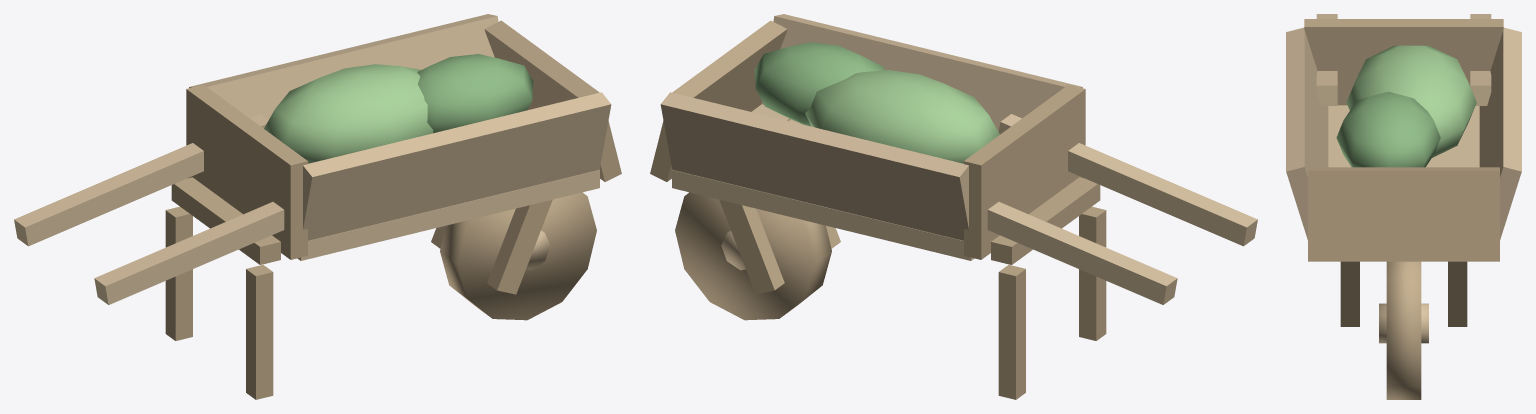
File: wheelbarrow.fbx
The picture shows the model from 3 angles, left to right: view 1: azimuth 30°, elevation 25°; view 2: azimuth 150°, elevation 25°; view 3: azimuth 270°, elevation 25°; orthographic projection. The views are drawn at different scales.
Parts seen in each view (by area): view 1: EN_wheelbarrow; view 2: EN_wheelbarrow; view 3: EN_wheelbarrow.
Boxes of the visible parts, bbox=[...] form: EN_wheelbarrow: bbox=[14, 14, 621, 399]; EN_wheelbarrow: bbox=[650, 14, 1257, 399]; EN_wheelbarrow: bbox=[1286, 14, 1521, 399].
Bounding box in the file's own units: 152 × 75 × 61.42.
